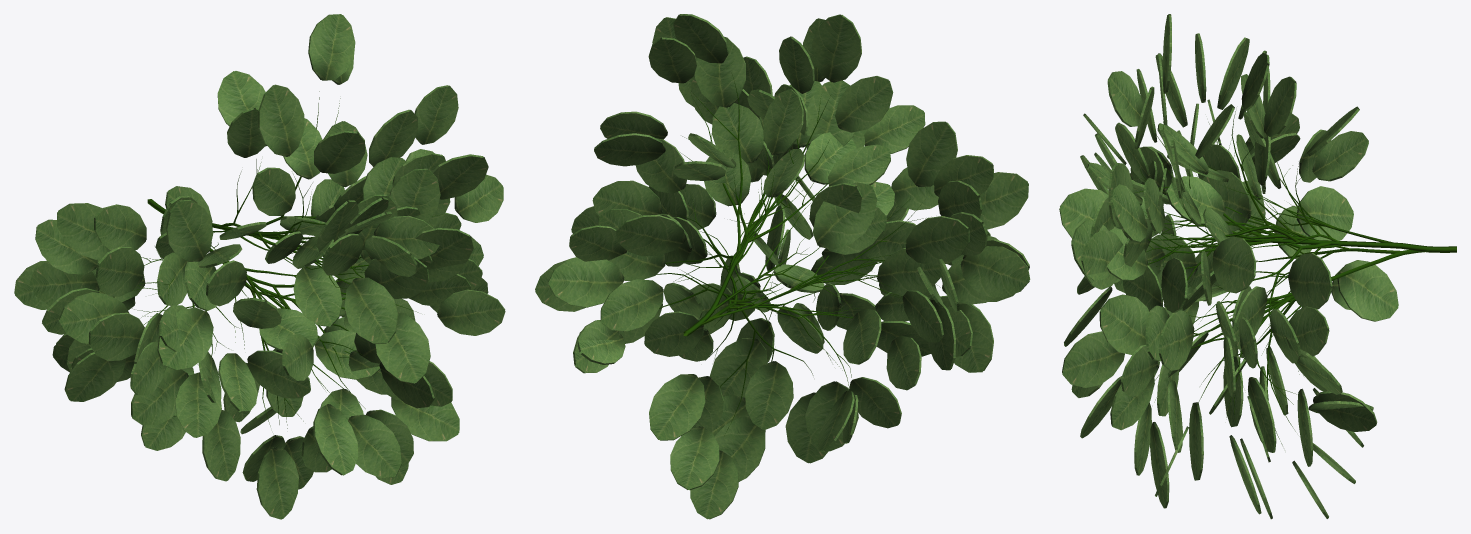
Rendered from plant21.obj.
3 renders of one model, left to right at view 1: azimuth 30°, elevation 25°; view 2: azimuth 150°, elevation 25°; view 3: azimuth 270°, elevation 25°, orthographic. The views are drawn at different scales.
Parts seen in each view (by area): view 1: leaves.016, tree.016; view 2: leaves.016, tree.016; view 3: leaves.016, tree.016.
Part boxes in pixels (left/top/right/bottom): leaves.016: left=14, top=14, right=505, bottom=519; tree.016: left=129, top=91, right=442, bottom=428; leaves.016: left=535, top=14, right=1030, bottom=519; tree.016: left=630, top=74, right=940, bottom=435; leaves.016: left=1059, top=14, right=1398, bottom=519; tree.016: left=1133, top=111, right=1456, bottom=445.
Bounding box in the file's own units: 0.4377 × 0.4221 × 0.313.
2 materials, 2 textured.
